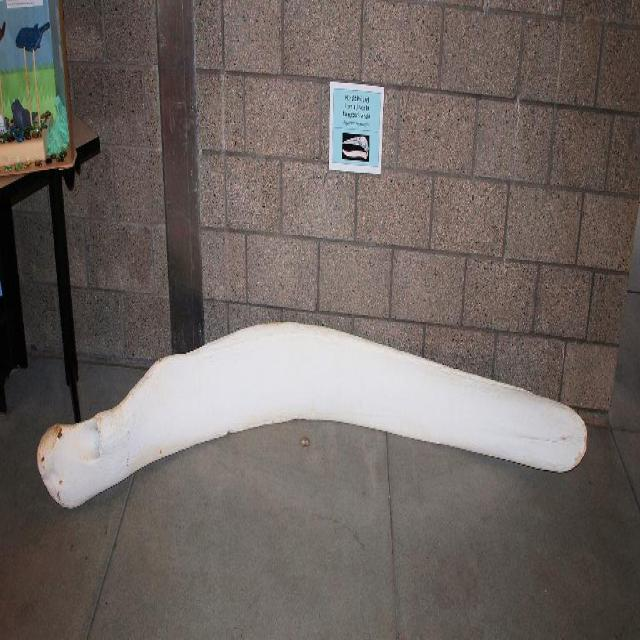table: (0, 113, 102, 409)
